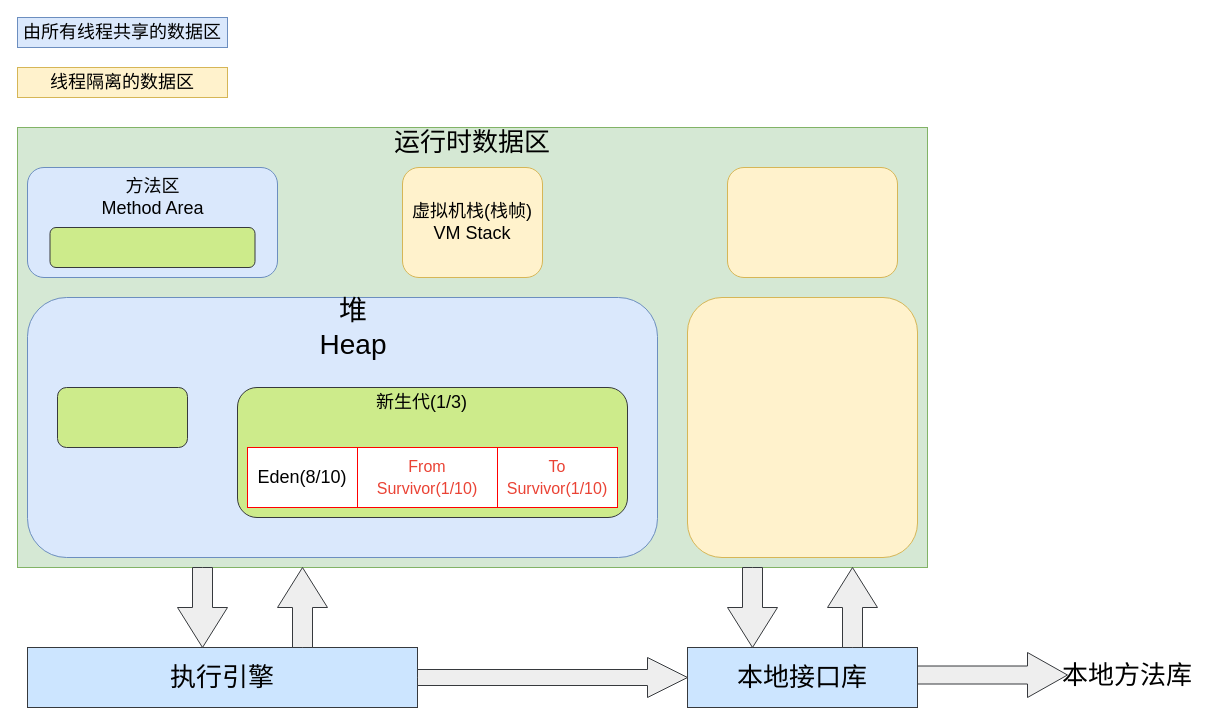
This 1225x725 diagram has some shape labels left out. Each missing label, with the box of its shape:
本地方法栈 Native MethodStack: (726, 166, 898, 278)
程序计数器 Program Counter Register: (686, 296, 918, 558)
老年代(2/3): (56, 386, 188, 448)
运行时常量池（Runtime Constant Pool）: (49, 226, 255, 268)
